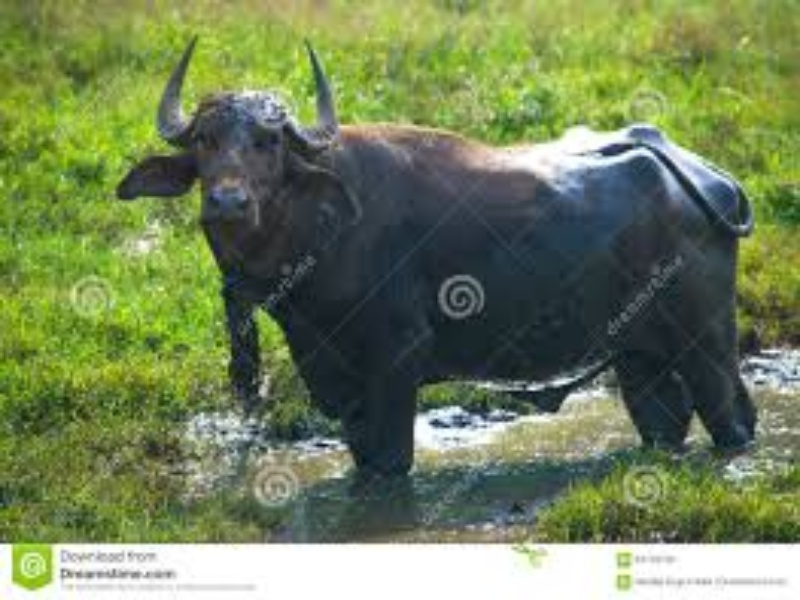buffalo: (122, 30, 764, 465)
